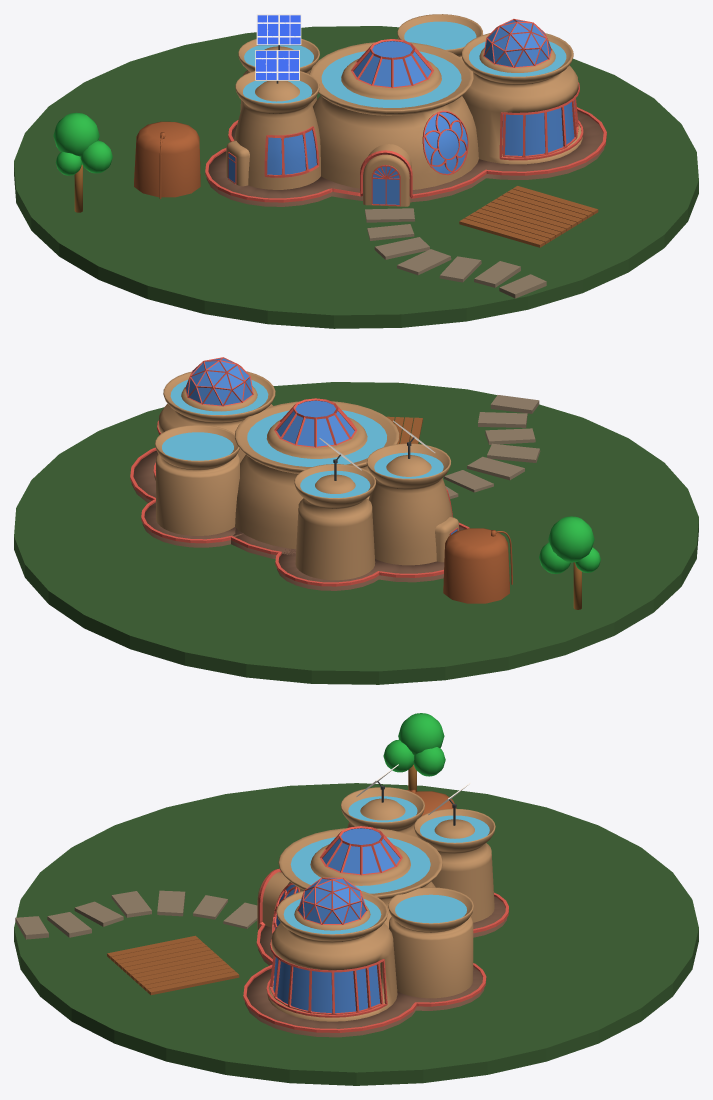
File: EXP_all.glb
3 views of the same model, one above another, from view 1: azimuth 30°, elevation 25°; view 2: azimuth 150°, elevation 25°; view 3: azimuth 270°, elevation 25° (orthographic).
Visible parts, largest first — view 1: EXP_Ground, EXP_House_Wall, EXP_House_Window, EXP_House_Water, EXP_House_Frame, EXP_House_Base, EXP_Path, EXP_Patio, EXP_Biogas, EXP_Tree, EXP_Solar, EXP_House_Edge; view 2: EXP_Ground, EXP_House_Wall, EXP_House_Water, EXP_Biogas, EXP_House_Base, EXP_Path, EXP_House_Window, EXP_Tree, EXP_House_Frame, EXP_House_Edge, EXP_Patio; view 3: EXP_Ground, EXP_House_Wall, EXP_House_Window, EXP_House_Water, EXP_House_Base, EXP_House_Frame, EXP_Patio, EXP_Path, EXP_Tree, EXP_House_Edge, EXP_Biogas.
Part boxes in pixels (<box>): EXP_Ground: <box>14,26,698,328</box>; EXP_House_Wall: <box>226,14,582,206</box>; EXP_House_Window: <box>228,20,575,204</box>; EXP_House_Water: <box>243,21,566,107</box>; EXP_House_Frame: <box>228,19,583,206</box>; EXP_House_Base: <box>206,111,604,206</box>; EXP_Path: <box>365,208,546,298</box>; EXP_Patio: <box>459,186,598,247</box>; EXP_Biogas: <box>134,121,200,198</box>; EXP_Tree: <box>53,112,112,212</box>; EXP_Solar: <box>255,14,301,83</box>; EXP_House_Edge: <box>205,107,606,202</box>; EXP_Ground: <box>14,382,698,684</box>; EXP_House_Wall: <box>154,371,458,580</box>; EXP_House_Water: <box>162,379,443,497</box>; EXP_Biogas: <box>443,528,512,603</box>; EXP_House_Base: <box>131,450,465,590</box>; EXP_Path: <box>444,395,540,498</box>; EXP_House_Window: <box>186,358,457,534</box>; EXP_Tree: <box>539,516,600,609</box>; EXP_House_Frame: <box>153,357,458,535</box>; EXP_House_Edge: <box>130,447,469,586</box>; EXP_Patio: <box>386,416,422,444</box>; EXP_Ground: <box>14,783,698,1085</box>; EXP_House_Wall: <box>257,787,495,1021</box>; EXP_House_Window: <box>273,828,399,1013</box>; EXP_House_Water: <box>283,796,489,934</box>; EXP_House_Base: <box>245,896,507,1037</box>; EXP_House_Frame: <box>266,826,402,1017</box>; EXP_Patio: <box>107,935,239,995</box>; EXP_Path: <box>15,890,257,939</box>; EXP_Tree: <box>383,713,445,791</box>; EXP_House_Edge: <box>243,868,508,1032</box>; EXP_Biogas: <box>406,789,456,815</box>.
Size of the model in its own units: 13.32 by 3.35 by 13.32.
11 materials, 2 textured.
